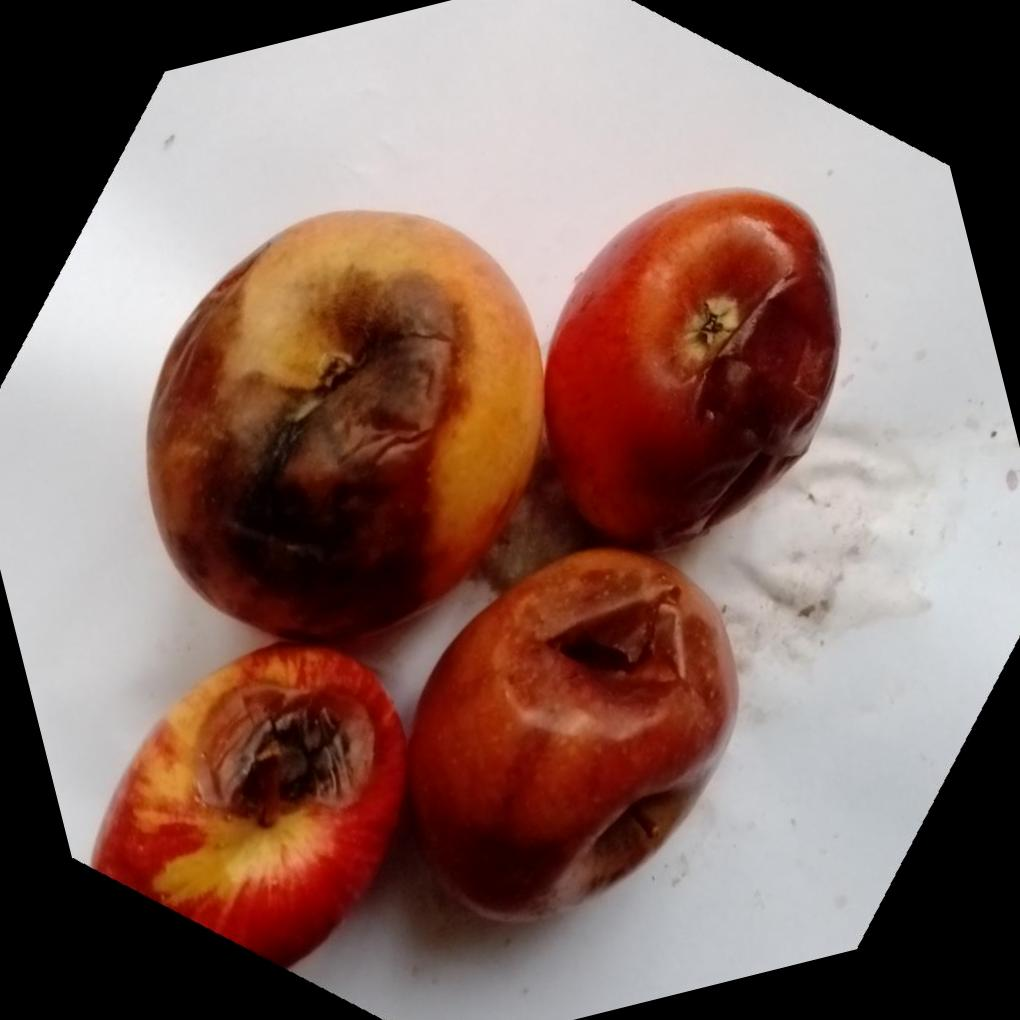FreshOrange: (116, 182, 786, 964)
